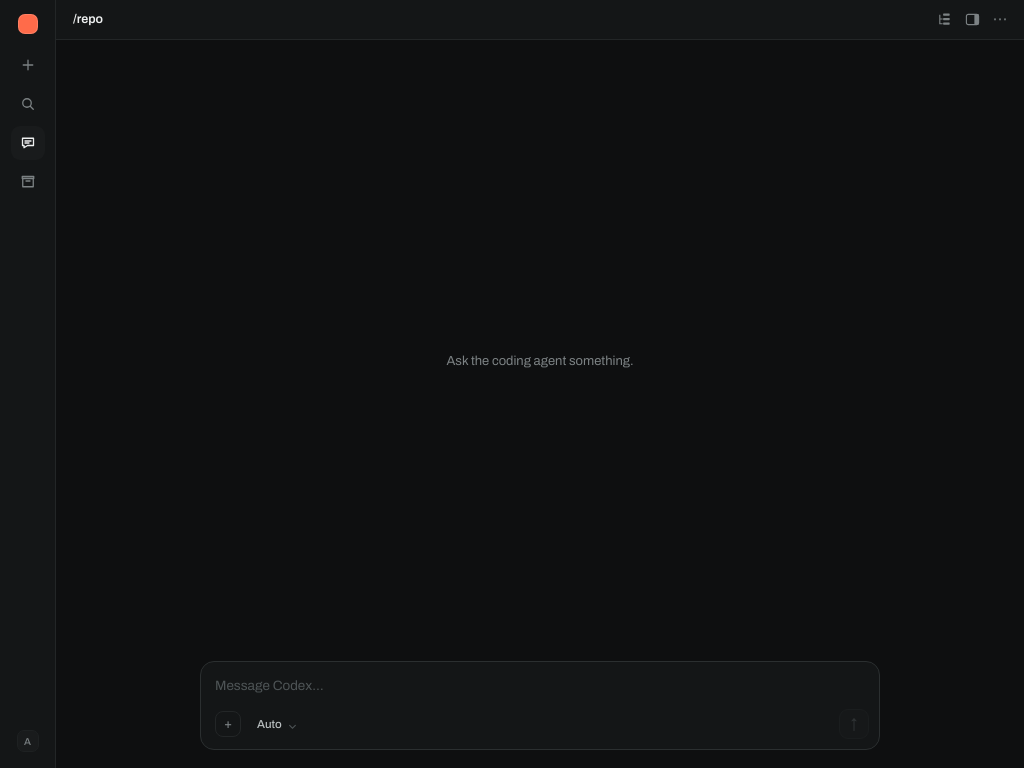
Scenario: approval mode picker › offers all three modes when no policy constrains them
Click the button titled "Approval mode" at (277, 724), box [247,710,307,738]
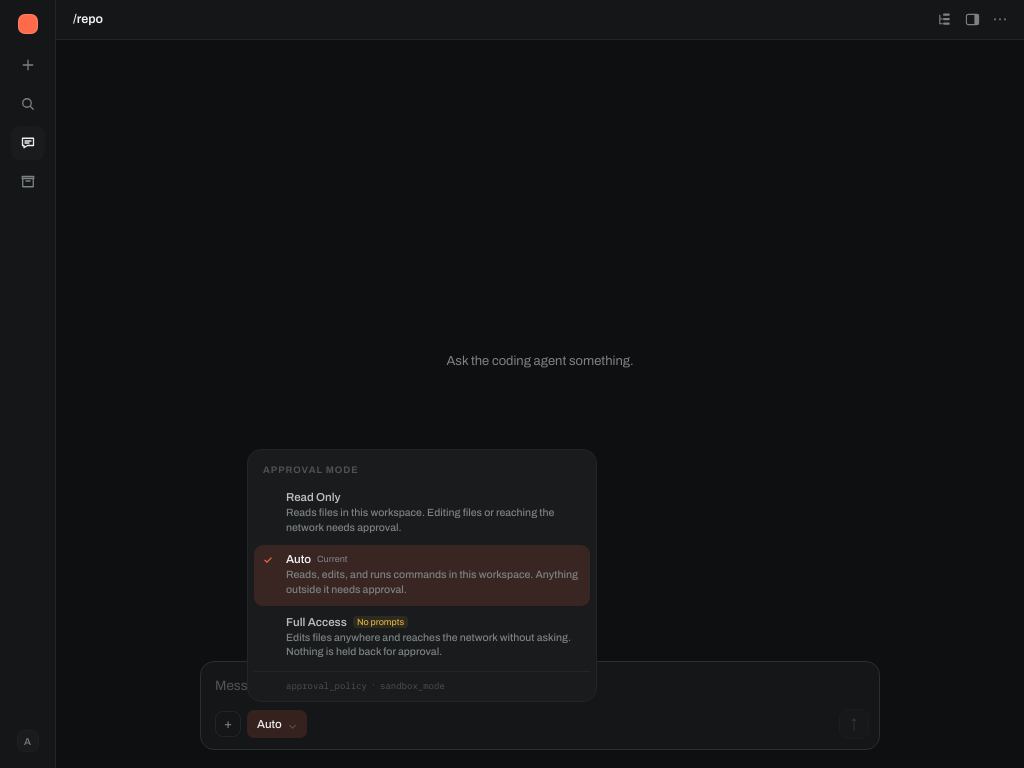
Result: the number of buttons with class "model-choice" is 3 at [254,483,590,543]; [254,545,590,606]; [254,608,590,668]
